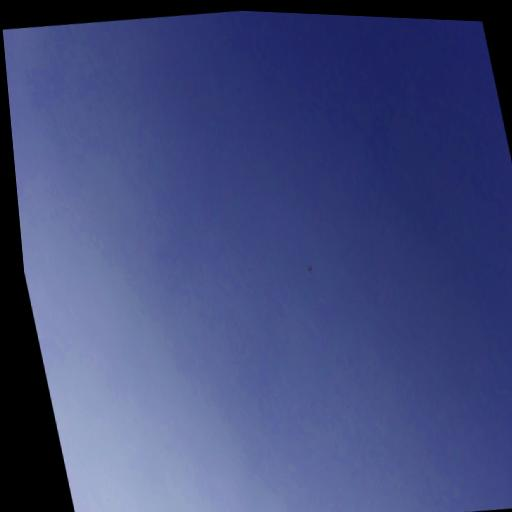drones: (306, 264, 315, 276)
